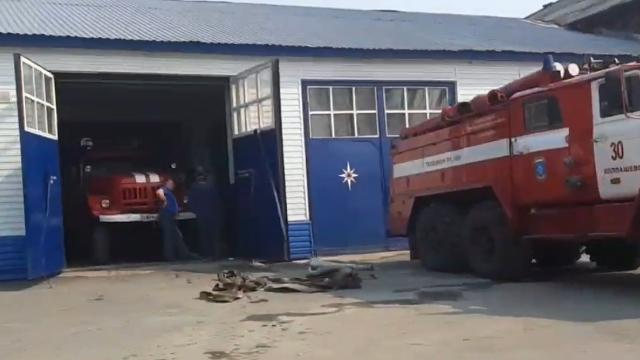fire fighting vehicle: (384, 53, 640, 275), (63, 134, 196, 265)
